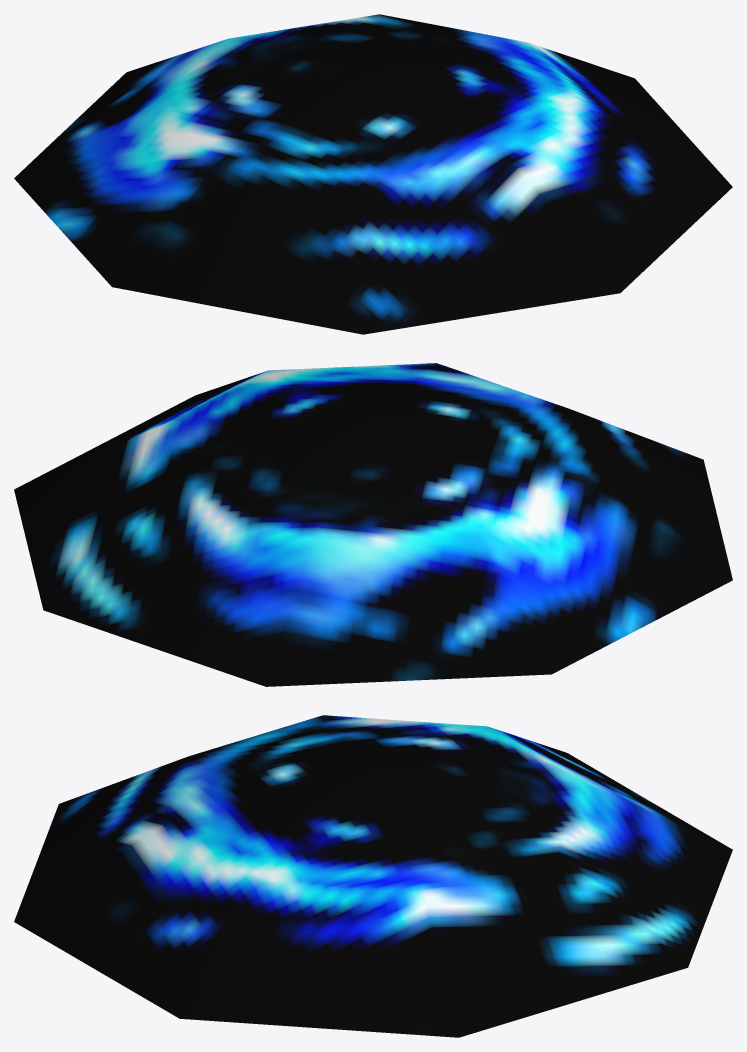
3 renders of one model, top to bottom at view 1: azimuth 30°, elevation 25°; view 2: azimuth 150°, elevation 25°; view 3: azimuth 270°, elevation 25°, orthographic. The views are drawn at different scales.
Visible parts, largest first — view 1: Sphere001; view 2: Sphere001; view 3: Sphere001.
Part boxes in pixels (x1=…): Sphere001: x1=14, y1=14, x2=732, y2=334; Sphere001: x1=14, y1=363, x2=732, y2=686; Sphere001: x1=14, y1=715, x2=732, y2=1037.
Bounding box in the file's own units: 1.01 × 0.1729 × 1.01.
1 material, 1 textured.
